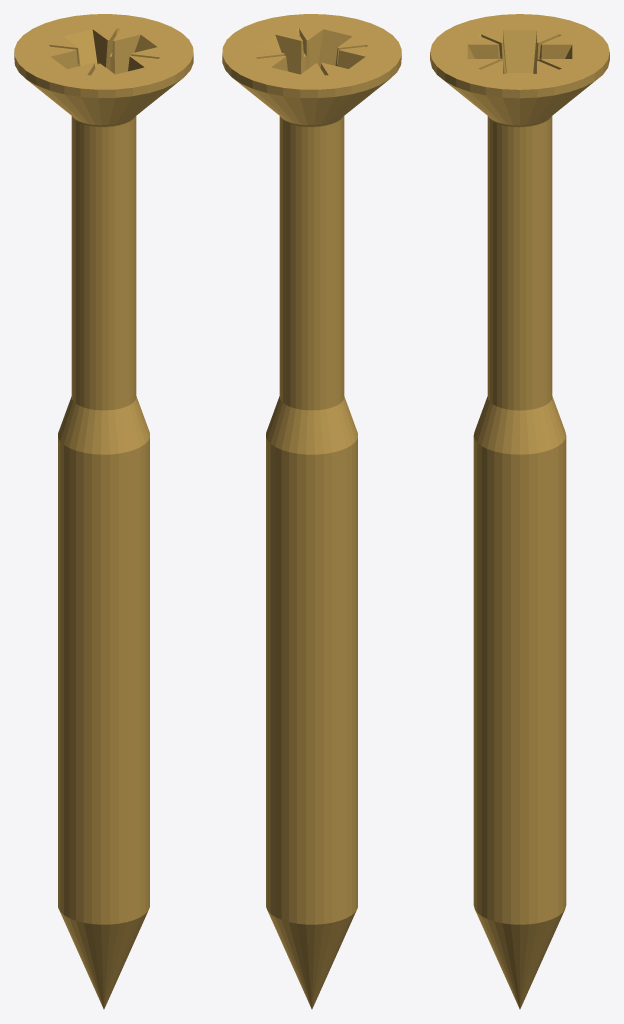
Rendered from model_display.glb.
3 views of the same model, side by side, from view 1: azimuth 30°, elevation 25°; view 2: azimuth 150°, elevation 25°; view 3: azimuth 270°, elevation 25° (orthographic).
Visible parts, largest first — view 1: geometry_0; view 2: geometry_0; view 3: geometry_0.
Boxes of the visible parts, x1,y1,x2,y2 form: geometry_0: (14,14,193,1009); geometry_0: (222,14,401,1009); geometry_0: (430,14,609,1009).
Bounding box in the file's own units: 0.0068 × 0.04 × 0.0068.
